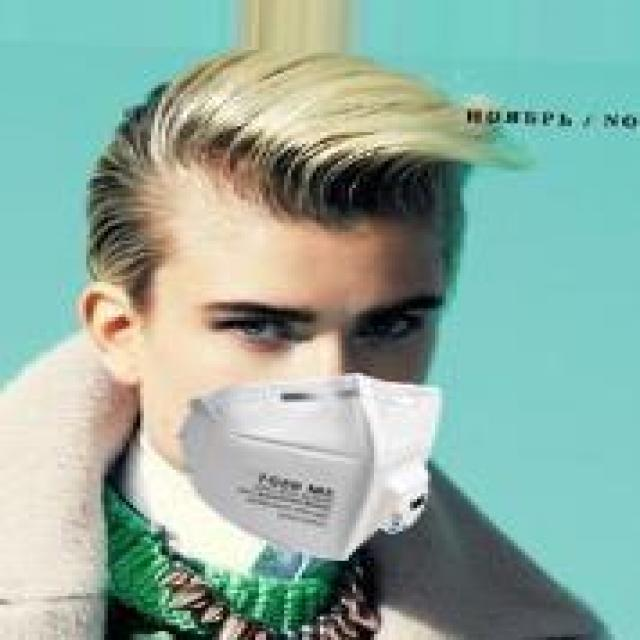mask: (58, 47, 558, 581)
